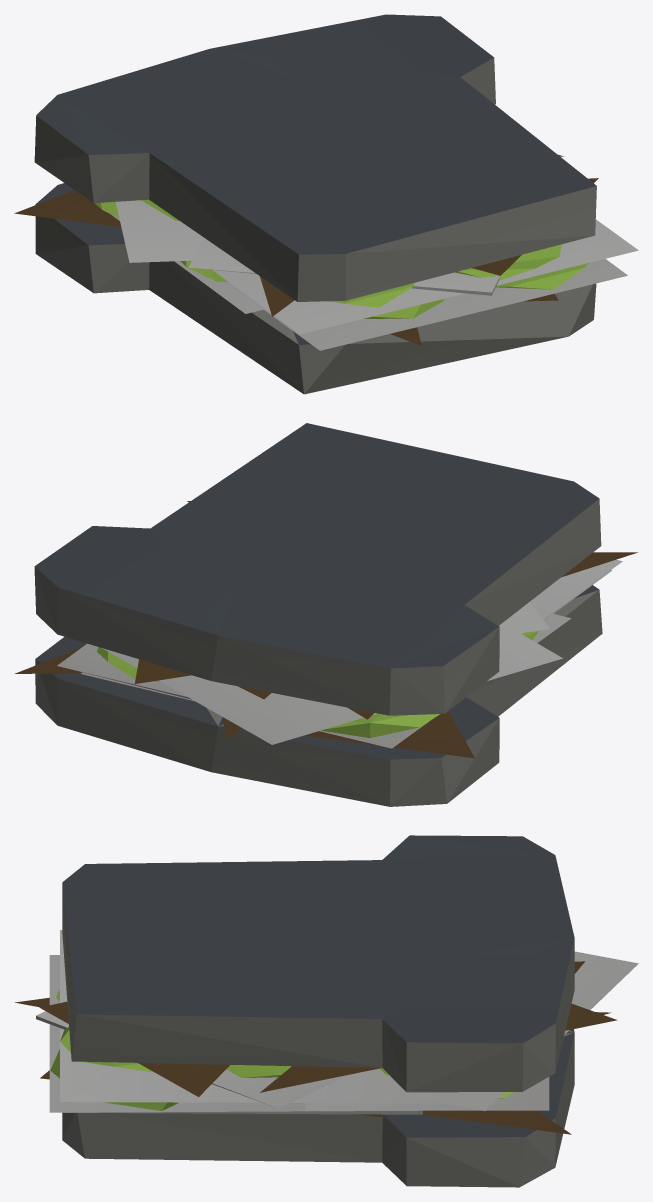
The model's file is Food_04.fbx.
3 renders of one model, top to bottom at view 1: azimuth 30°, elevation 25°; view 2: azimuth 150°, elevation 25°; view 3: azimuth 270°, elevation 25°, orthographic. The views are drawn at different scales.
Parts seen in each view (by area): view 1: Food_04; view 2: Food_04; view 3: Food_04.
Part boxes in pixels (<box>): Food_04: <box>14,14,638,394</box>; Food_04: <box>14,423,637,806</box>; Food_04: <box>15,835,638,1187</box>.
Bounding box in the file's own units: 0.1601 × 0.0482 × 0.1897.
